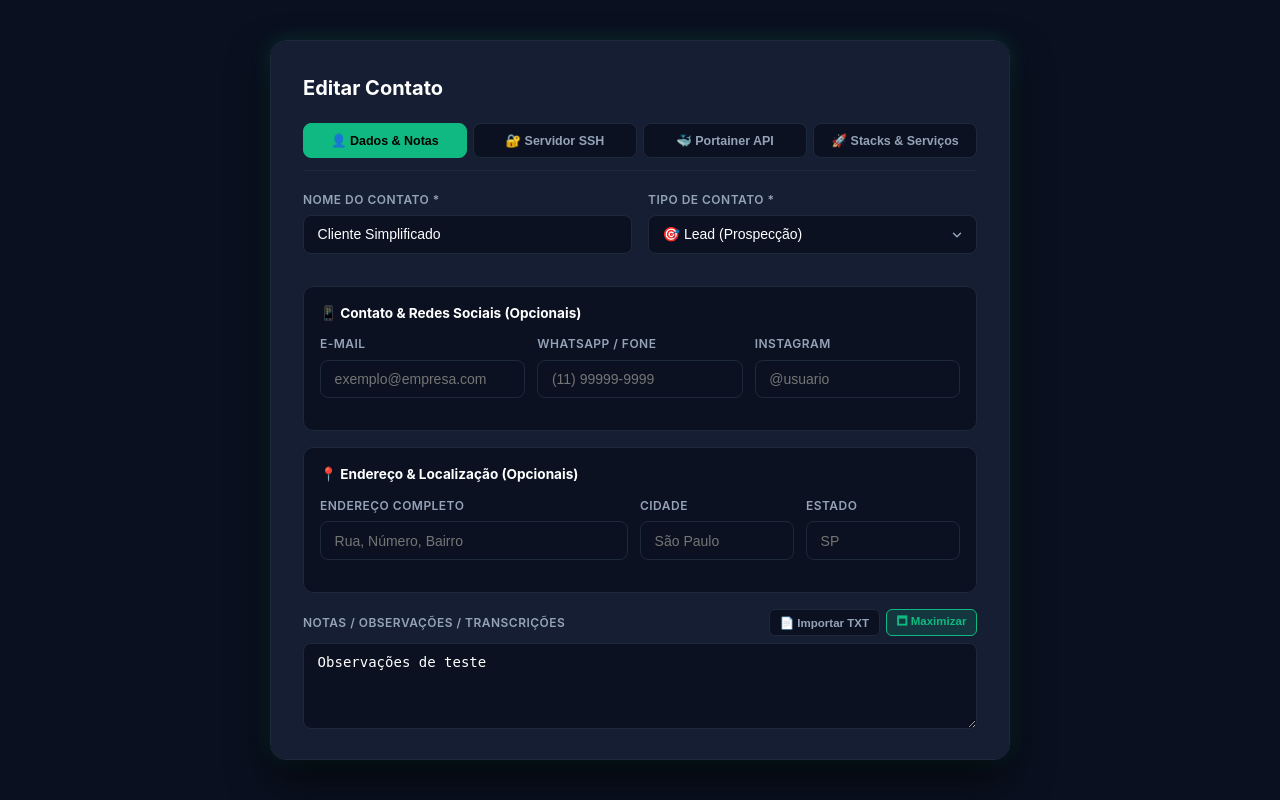
Scenario: Frontend Component Tests › shows server fields only when currentUser is SUPER_ADMIN
Click the button with test id "modal-tab-server": [555, 140] box [473,123,637,158]
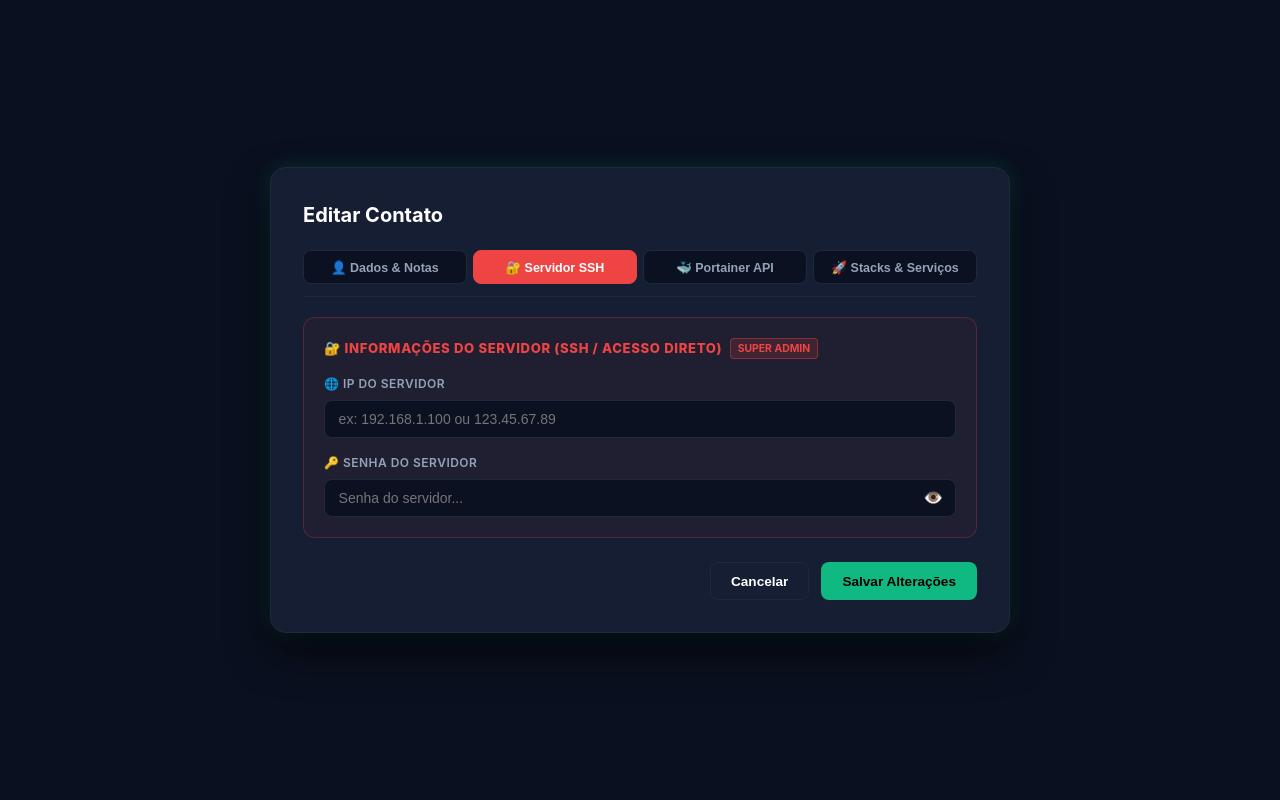
Expected: the field with test id "edit-server-ip-input" is shown, [324,400,956,438]
Expected: the password field with test id "edit-server-password-input" is shown, [324,479,956,518]
